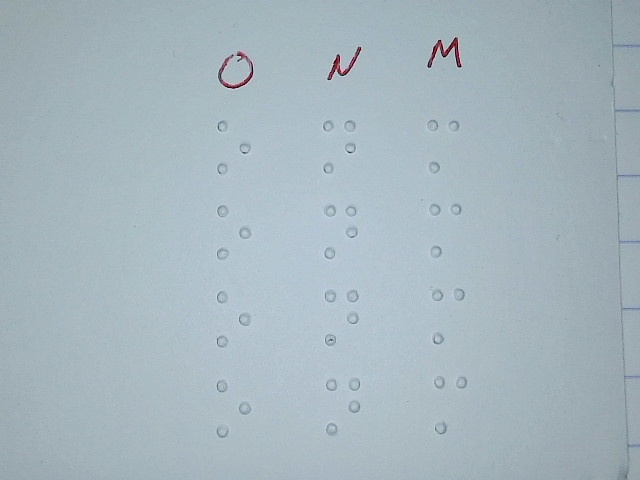M: (425, 115, 461, 176), (427, 200, 463, 261), (430, 284, 466, 345), (433, 373, 469, 434)
N: (321, 116, 357, 177), (323, 202, 359, 263), (324, 286, 360, 347), (325, 374, 361, 435)
O: (216, 117, 252, 178), (216, 202, 252, 263), (216, 288, 252, 349), (215, 377, 251, 438)
